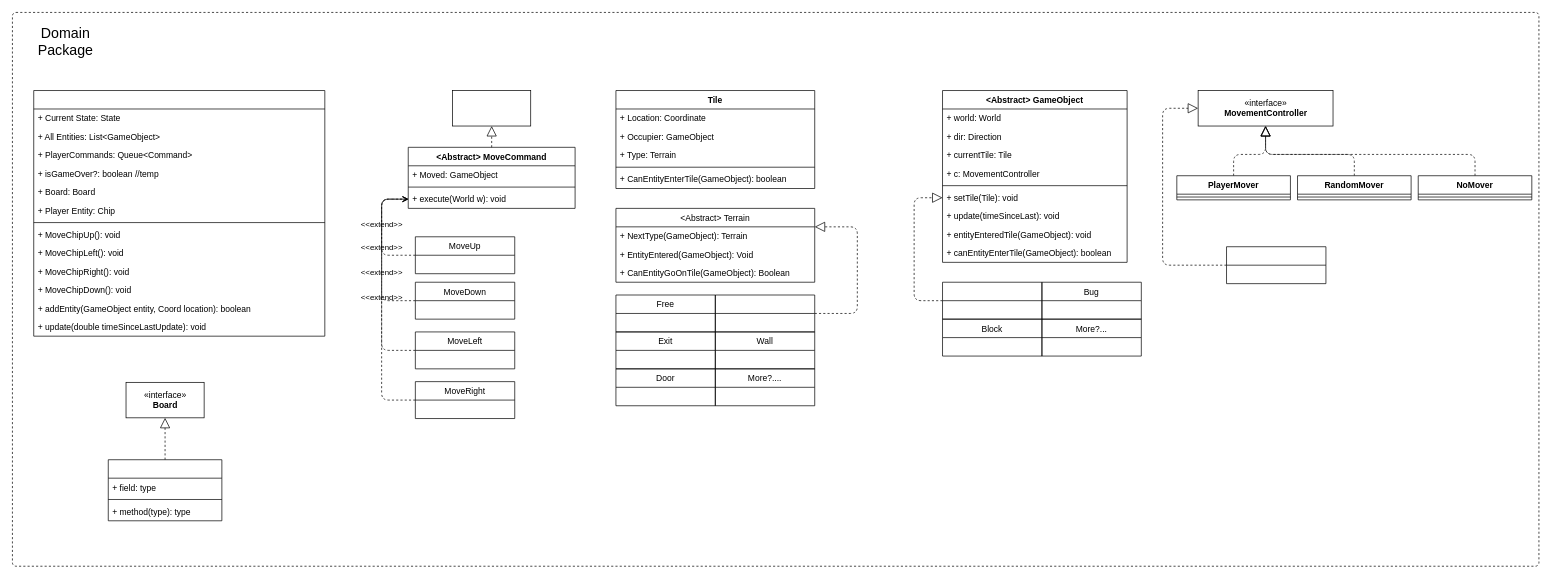
The diagram is 1551 pixels wide and 579 high, and some of its shapes have lost their labels. Each missing label, with the box of its shape:
ArrayBoard: (108, 459, 222, 521)
Chip: (942, 282, 1042, 319)
PatrolMover: (1226, 246, 1326, 284)
Teleporter: (715, 294, 815, 332)
World: (33, 90, 325, 336)
«interface» Command: (452, 90, 531, 126)
